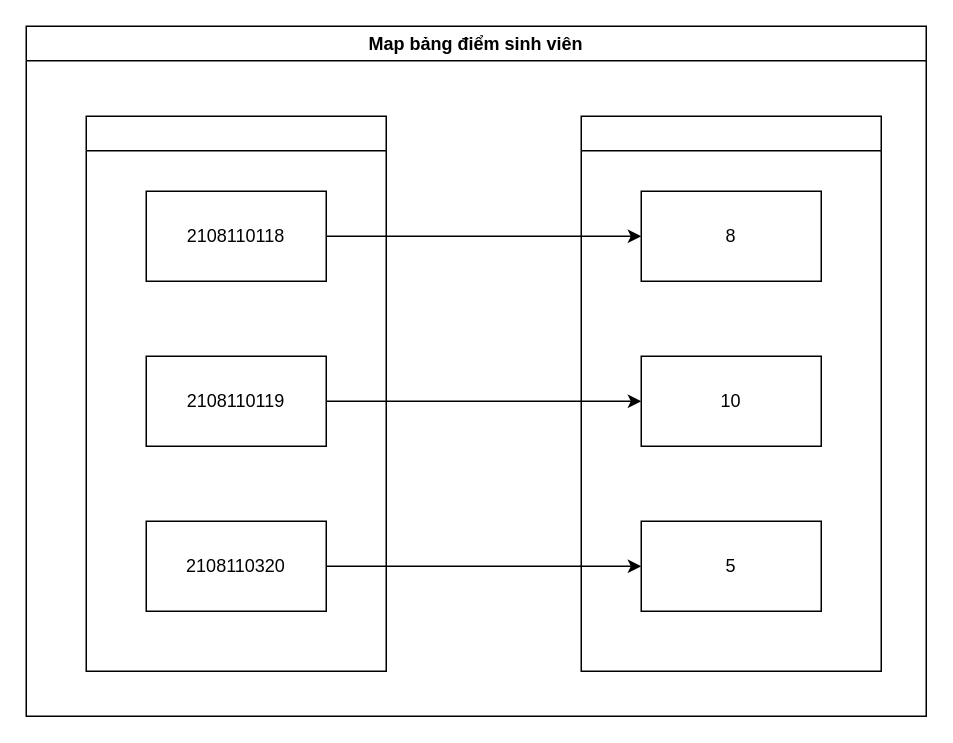
The diagram is 953 pixels wide and 743 high, and some of its shapes have lost their labels. Each missing label, with the box of its shape:
Keys (Mã sinh viên): (85, 115, 386, 671)
Values (Điểm): (580, 115, 881, 671)
